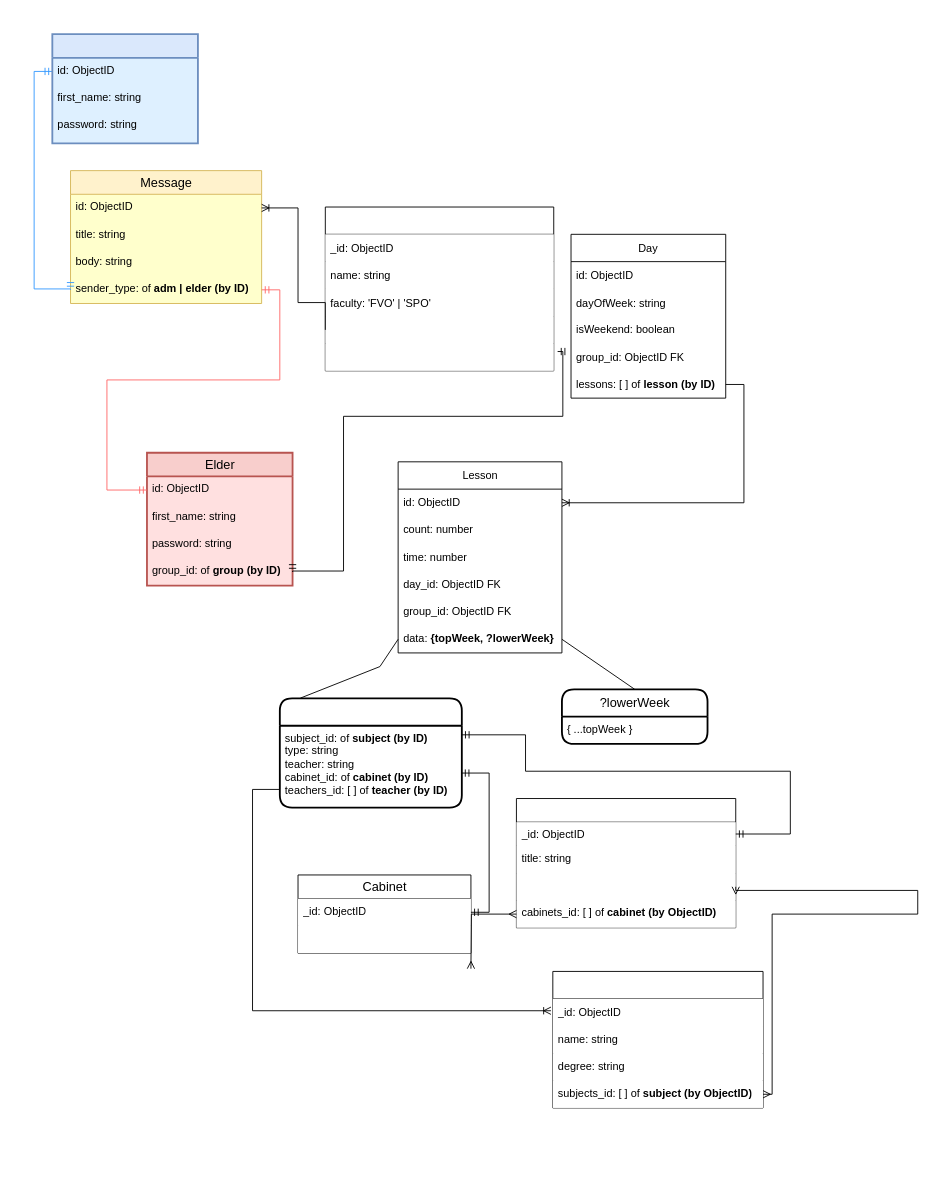
This 942x1178 diagram has some shape labels left out. The shapes that lost their labels are listed below. From the top down, each one's box as (x1, y1, x2, y2) in pixels, then its label:
(51, 33, 198, 144): Adm
(324, 206, 554, 371): Group
(325, 316, 553, 343): messages_id: [ ] of message(by ObjectID)
(325, 343, 553, 370): elder_id: of user ( by ObjectID)
(278, 697, 462, 808): topWeek
(516, 798, 736, 928): Subject
(516, 873, 735, 900): types: [ ] of string
(298, 925, 470, 953): item: string
(552, 971, 763, 1108): Teacher
